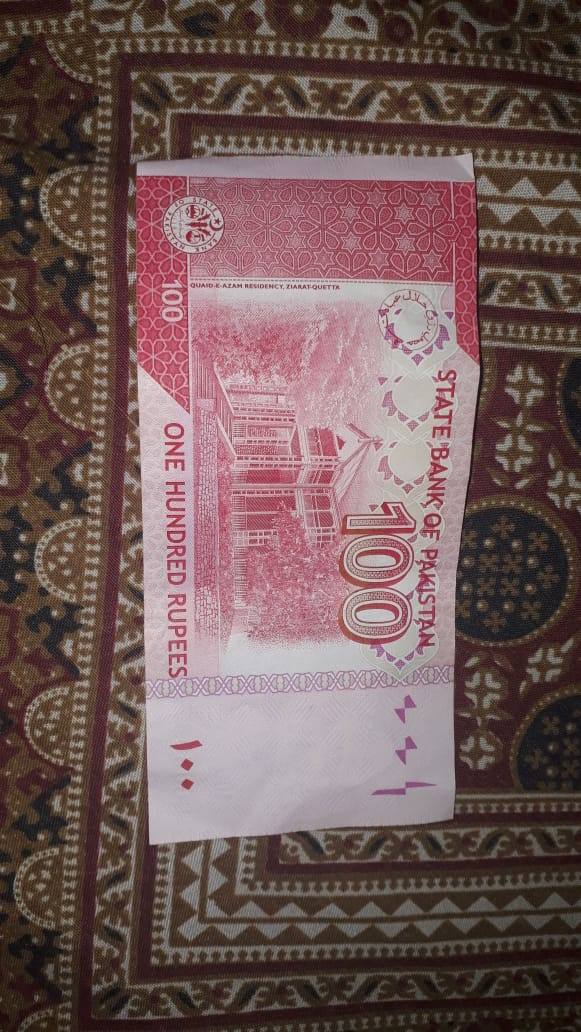100 rupee: (141, 158, 477, 850)
